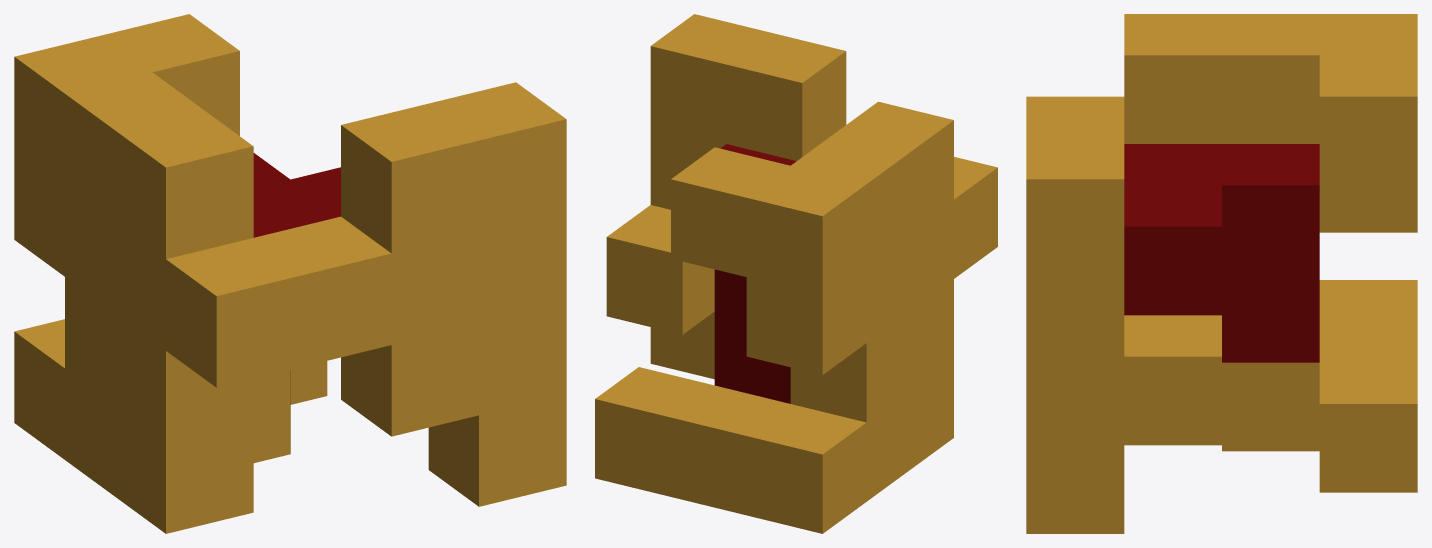
Rendered from fragment0.obj.
The picture shows the model from 3 angles, left to right: view 1: azimuth 30°, elevation 25°; view 2: azimuth 150°, elevation 25°; view 3: azimuth 270°, elevation 25°; orthographic projection. The views are drawn at different scales.
Bounding box in the file's own units: 4 × 4 × 4.
1 material, 1 textured.
